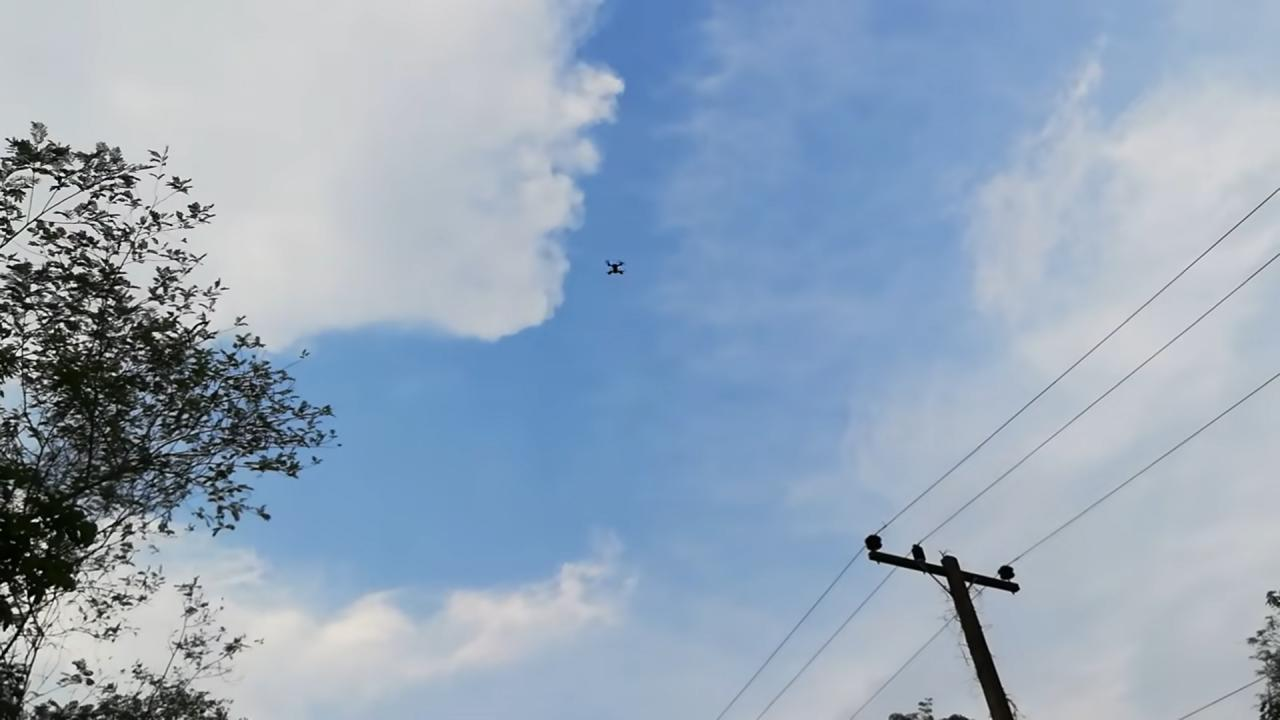Drone: (597, 254, 636, 282)
